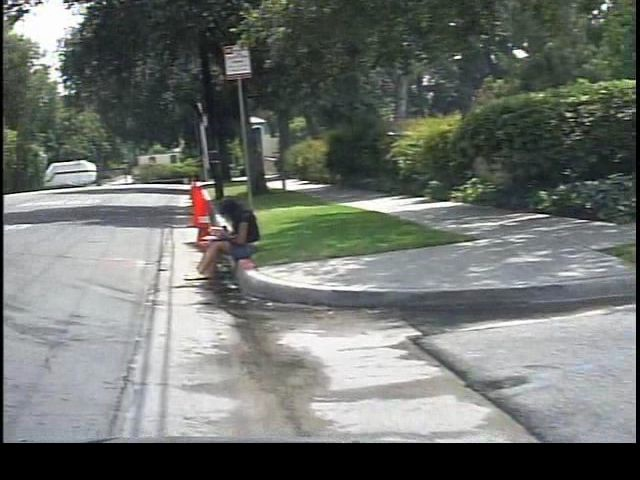person: (170, 192, 257, 283)
